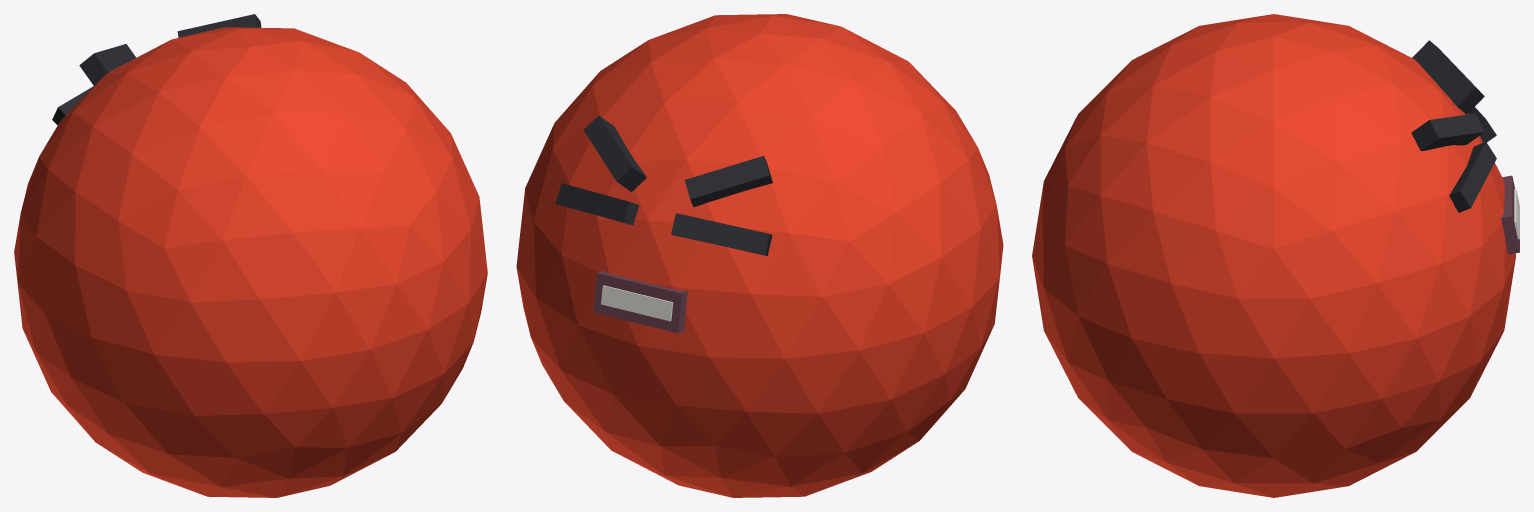
Rendered from CH_Topik_T4_Blink.fbx.
3 renders of one model, left to right at view 1: azimuth 30°, elevation 25°; view 2: azimuth 150°, elevation 25°; view 3: azimuth 270°, elevation 25°, orthographic. The views are drawn at different scales.
Visible parts, largest first — view 1: CH_Topik_T4_Blink; view 2: CH_Topik_T4_Blink; view 3: CH_Topik_T4_Blink.
Boxes of the visible parts, left/top/right/bottom form: CH_Topik_T4_Blink: left=14, top=14, right=487, bottom=497; CH_Topik_T4_Blink: left=516, top=14, right=1003, bottom=497; CH_Topik_T4_Blink: left=1032, top=14, right=1519, bottom=497.
Bounding box in the file's own units: 1 × 1 × 1.01.
